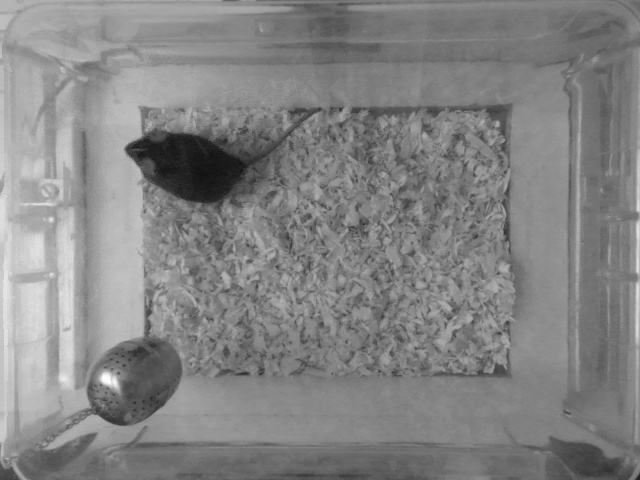mice: (125, 104, 325, 207)
